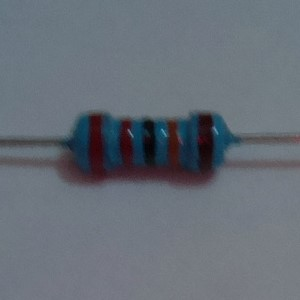black_band: (140, 116, 158, 169)
brown_band: (196, 109, 215, 175)
orange_band: (165, 117, 182, 170)
red_band: (86, 111, 106, 175), (118, 117, 134, 171)
